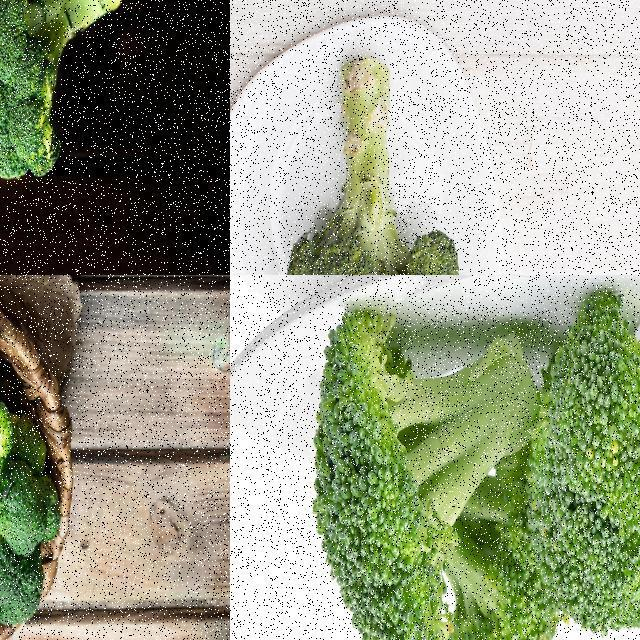broccoli: (313, 304, 539, 639), (524, 276, 639, 639), (283, 51, 462, 274), (0, 0, 136, 183), (419, 501, 562, 639), (0, 411, 64, 635)
